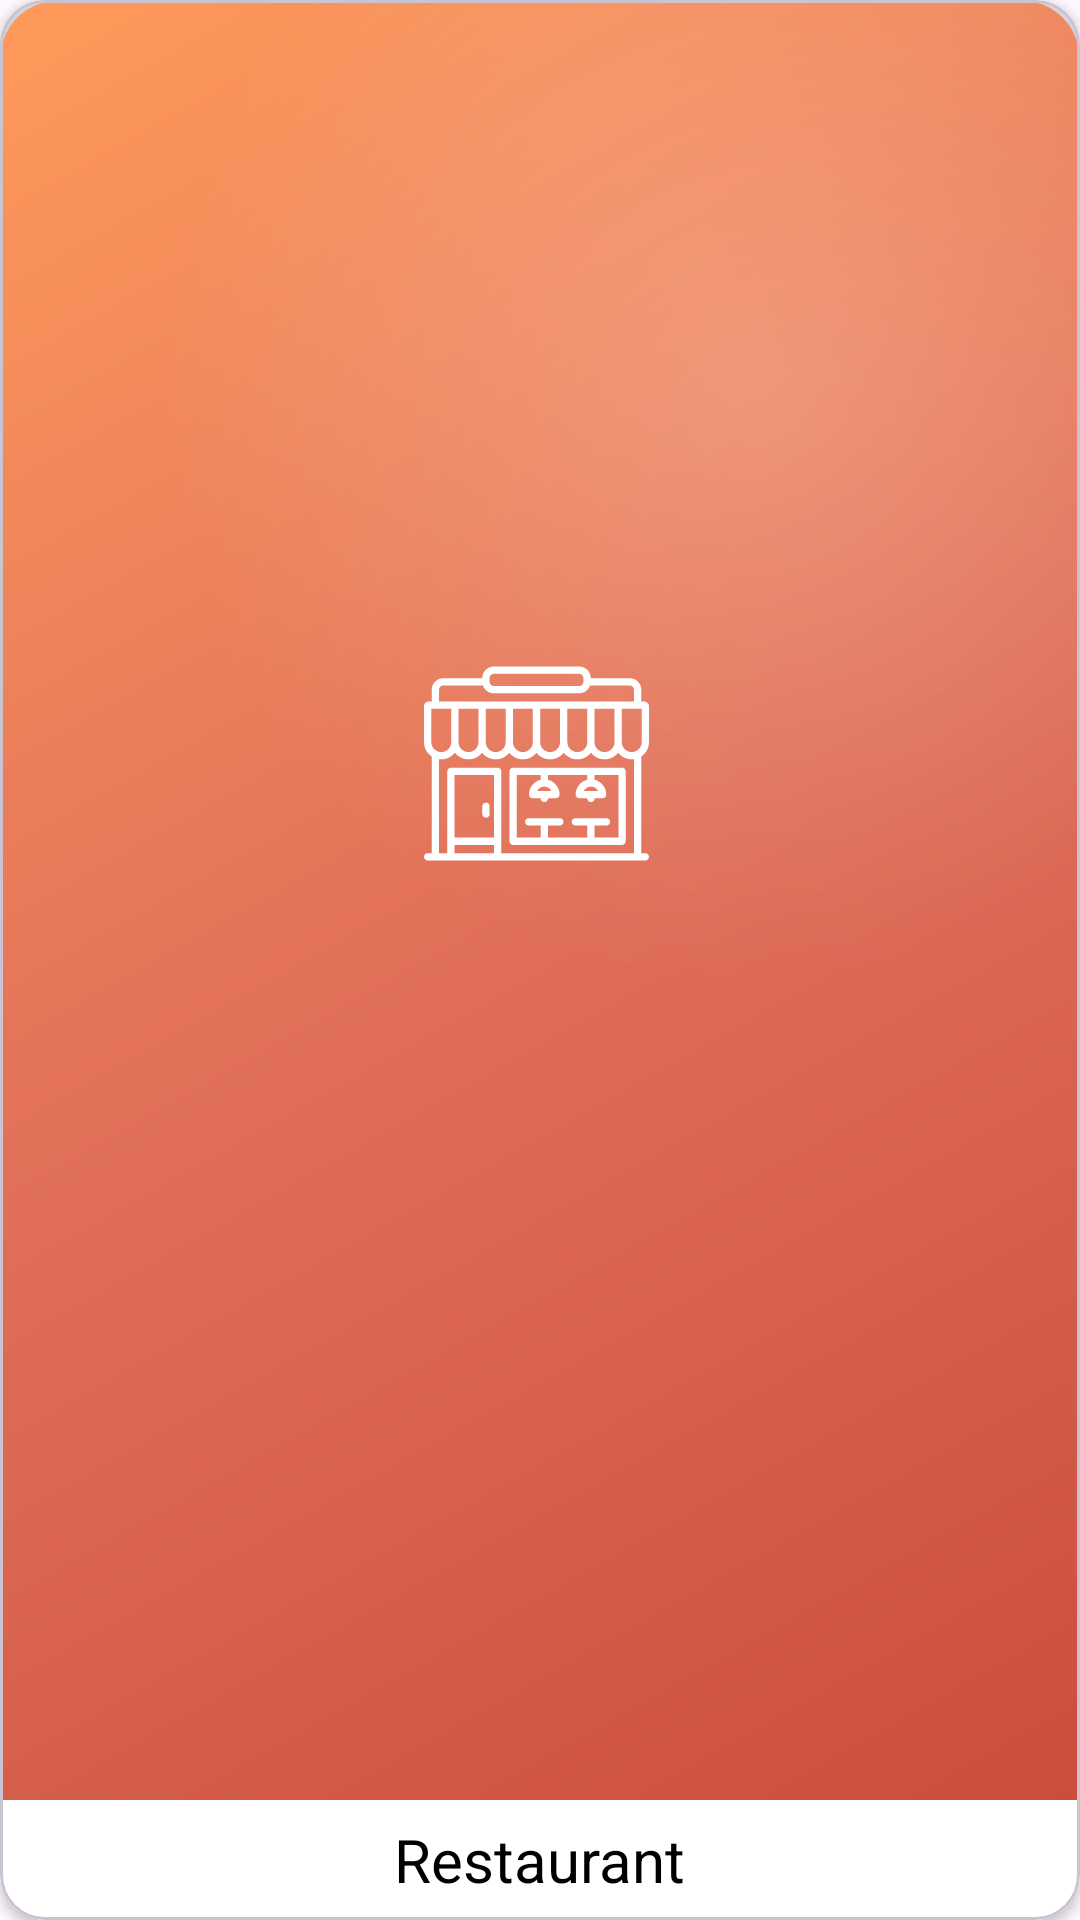

Named icons in this screenshot (1080px×1920px) and their bounding boxes, box(x1, y1, x2, y2):
restaurant: box(409, 651, 664, 861)
